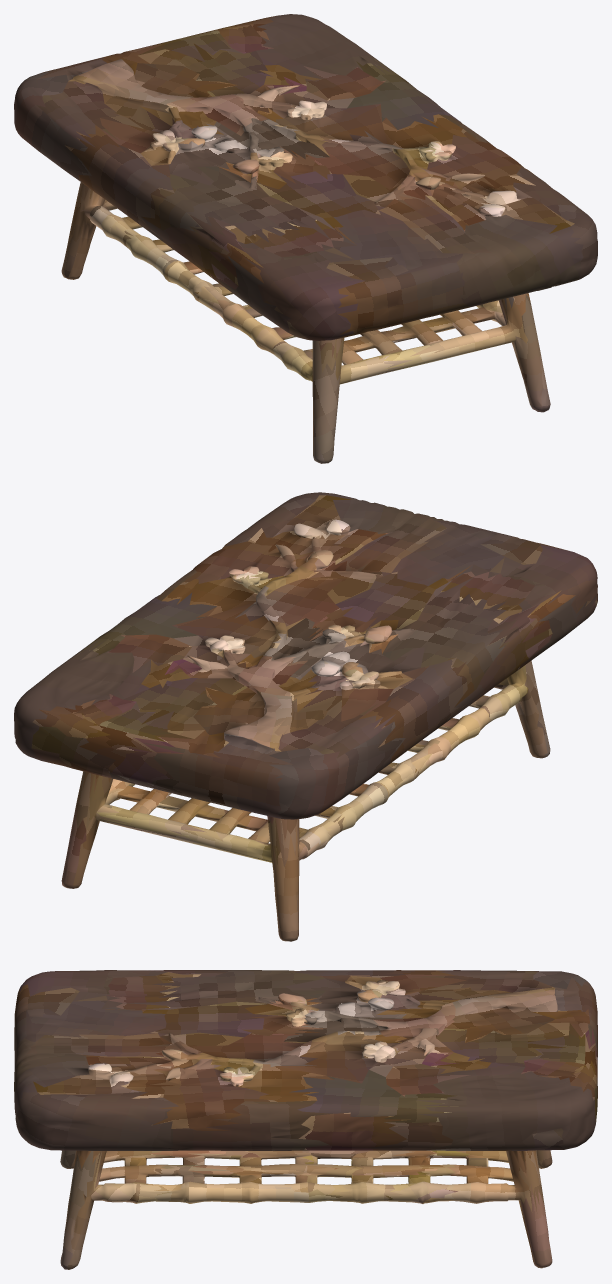
File: JP_사물_s2_prop_sofa_table.glb
3 views of the same model, one above another, from view 1: azimuth 30°, elevation 25°; view 2: azimuth 150°, elevation 25°; view 3: azimuth 270°, elevation 25° (orthographic). The views are drawn at different scales.
Parts seen in each view (by area): view 1: tripo_node_db224fcb-3318-4c7c-b792-a417f67d77e9; view 2: tripo_node_db224fcb-3318-4c7c-b792-a417f67d77e9; view 3: tripo_node_db224fcb-3318-4c7c-b792-a417f67d77e9.
Boxes of the visible parts, x1,y1,x2,y2 form: tripo_node_db224fcb-3318-4c7c-b792-a417f67d77e9: (14,14,597,463); tripo_node_db224fcb-3318-4c7c-b792-a417f67d77e9: (14,492,597,941); tripo_node_db224fcb-3318-4c7c-b792-a417f67d77e9: (14,970,597,1269).
Size of the model in its own units: 0.5845 by 0.362 by 1.
Materials: 1 (1 with a texture image).
